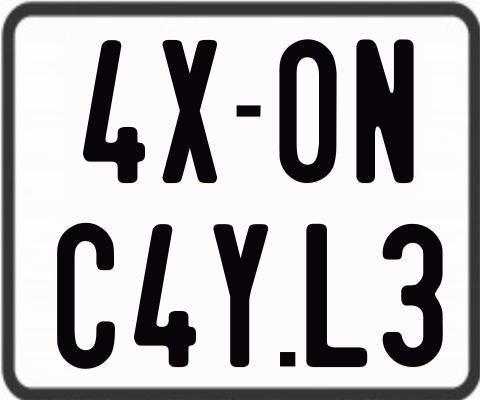0: (279, 38, 339, 187)
3: (380, 222, 446, 371)
4: (82, 38, 150, 187), (131, 221, 194, 367)
C: (56, 222, 114, 368)
L: (303, 221, 370, 366)
N: (356, 38, 414, 184)
X: (163, 37, 223, 186)
Y: (211, 221, 269, 364)
